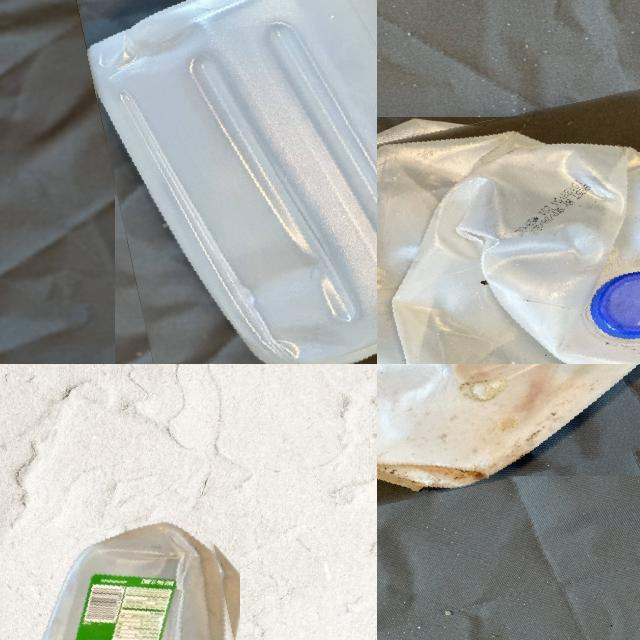milk-jug: (93, 0, 377, 364), (377, 93, 640, 364), (377, 364, 640, 502), (4, 517, 254, 640)
